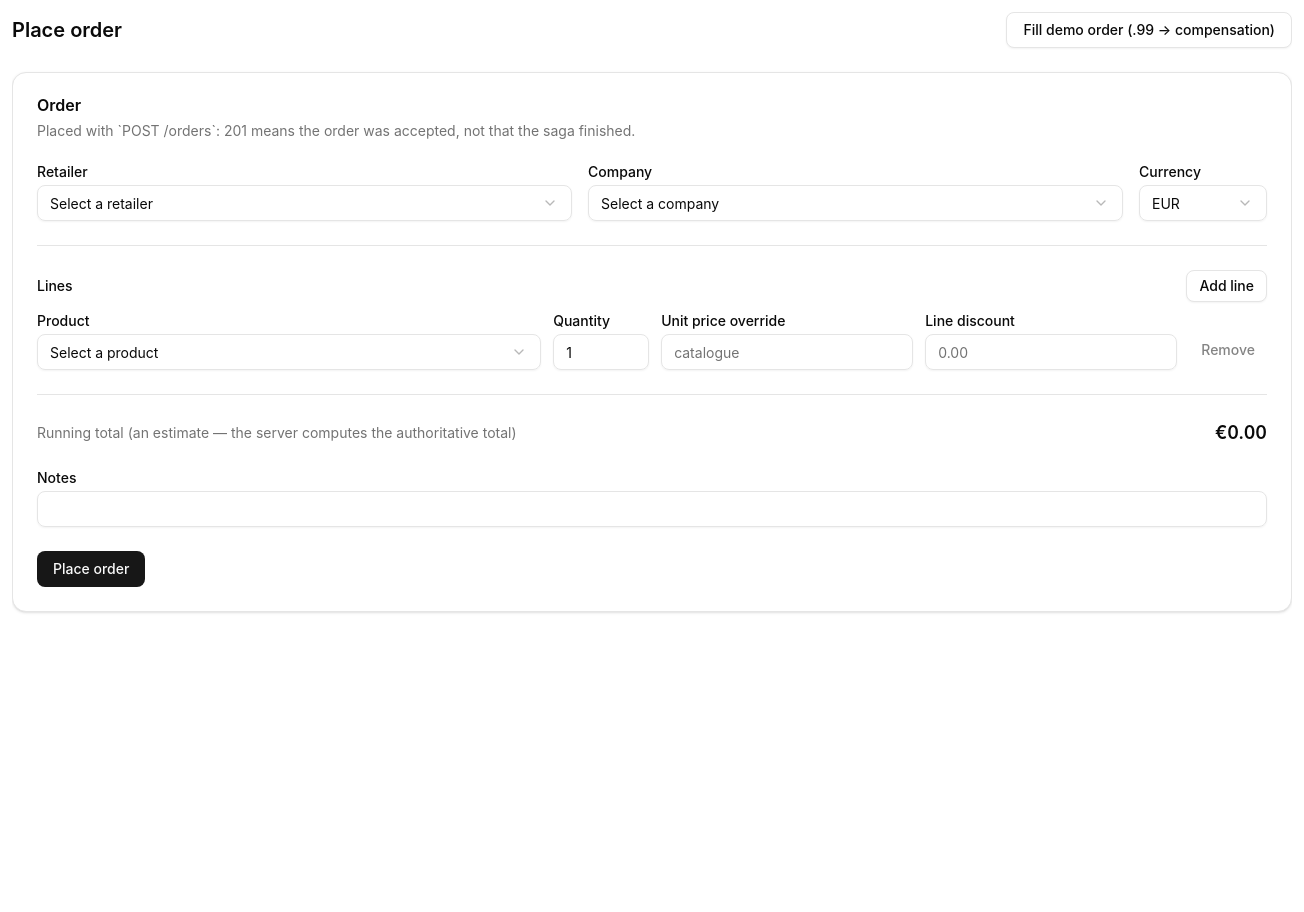
Test case: PlaceOrderForm › lines can be added and removed; the last line cannot be removed
Expected: the dropdown labelled "Retailer" is shown, x1=37 y1=185 x2=572 y2=221
Expected: the button with aria-label "Remove line 1" is disabled, x1=1189 y1=334 x2=1267 y2=366
Step 1. Click the button "Add line" → click(1227, 286), box x1=1186 y1=270 x2=1267 y2=302
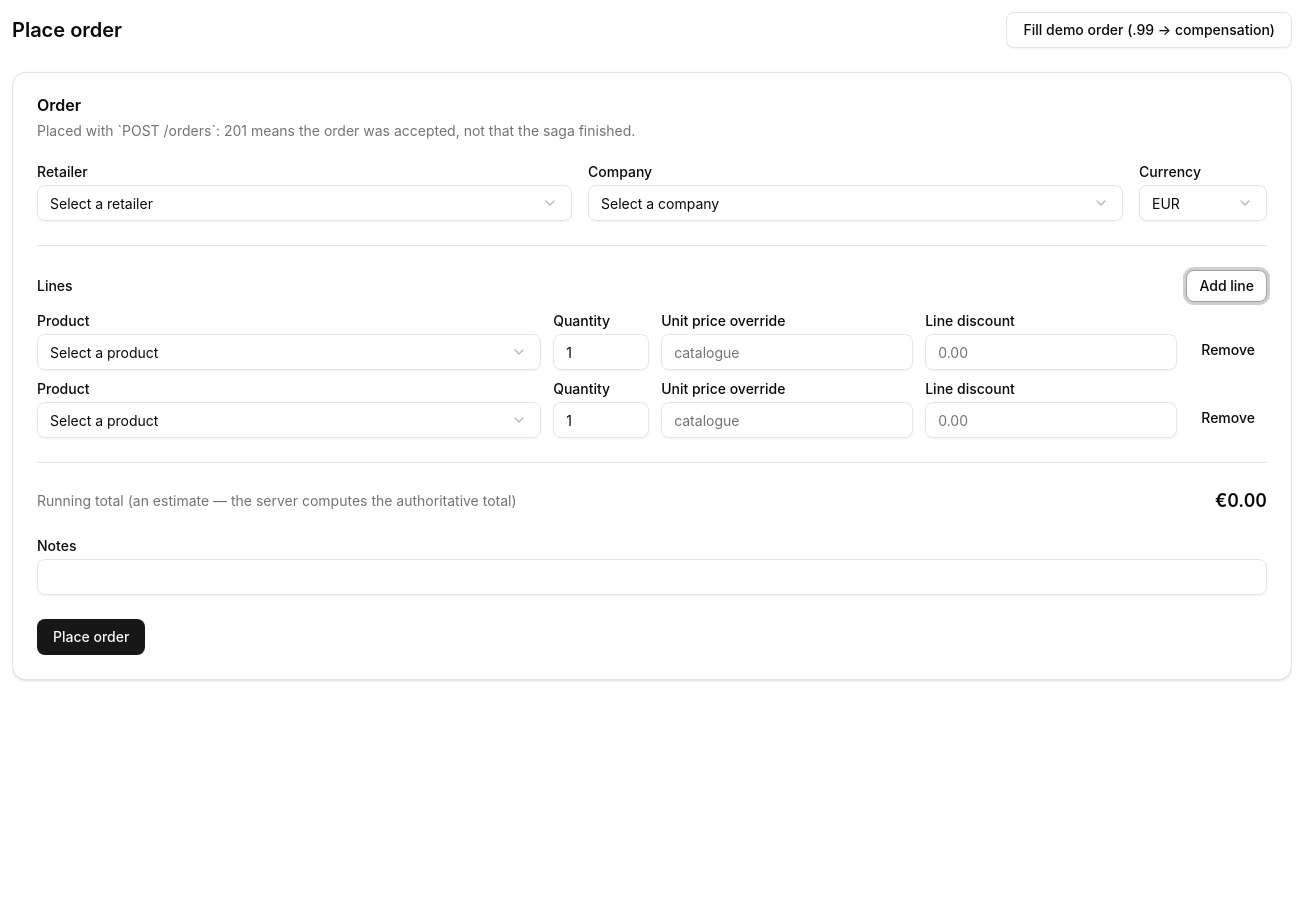
Expected: the number of elements with test id "order-line" is 2, x1=37 y1=314 x2=1267 y2=370; x1=37 y1=382 x2=1267 y2=438
Step 2. Click the button with aria-label "Remove line 2" → click(1228, 418), box x1=1189 y1=402 x2=1267 y2=434
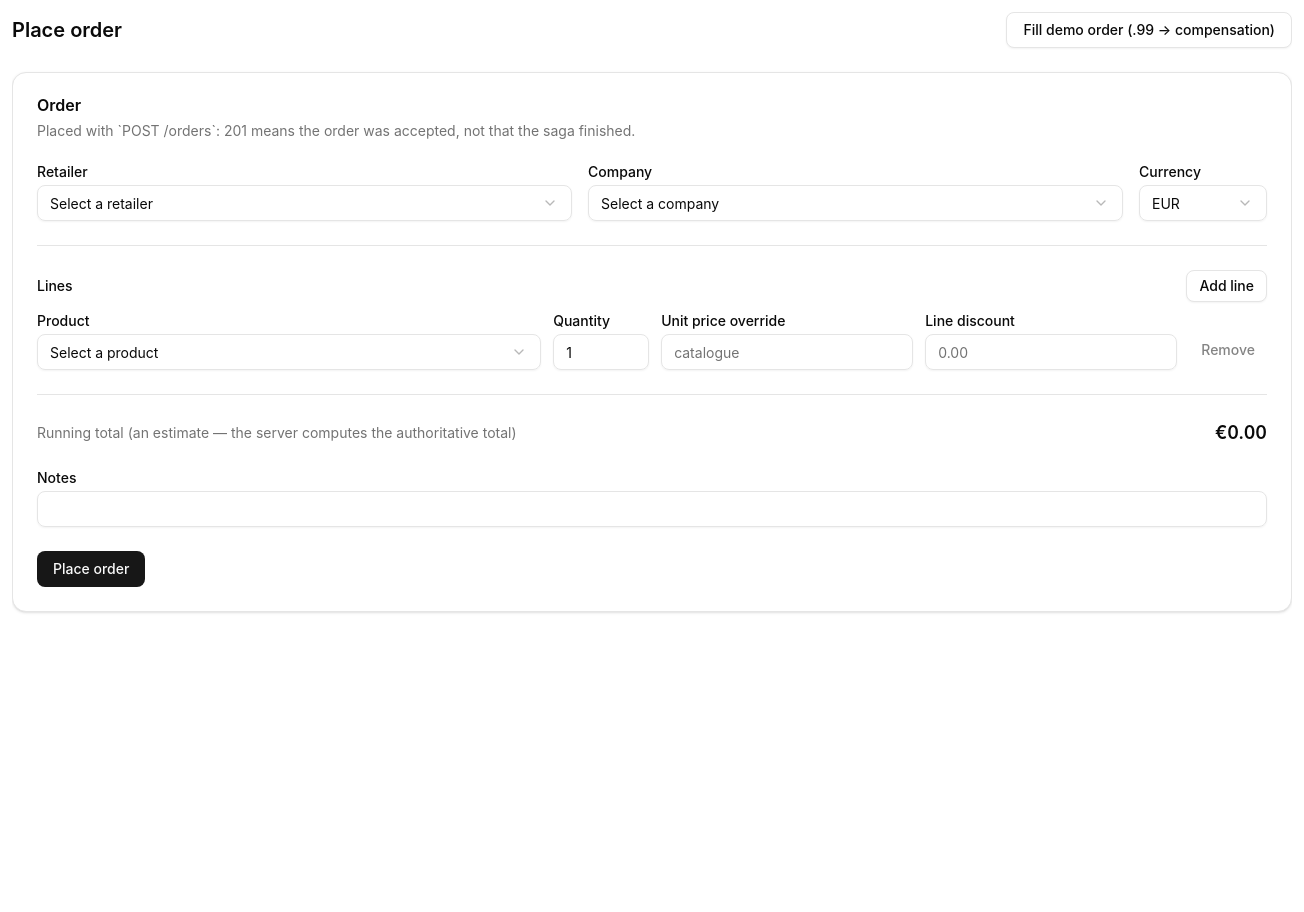
Expected: the number of elements with test id "order-line" is 1, x1=37 y1=314 x2=1267 y2=370
